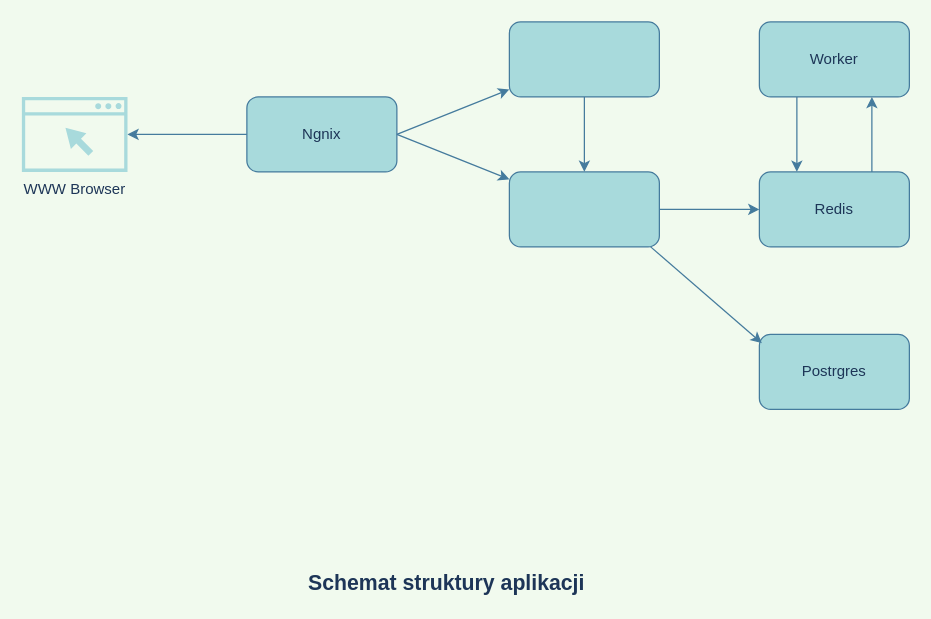
Image size: 931x619. Some labels were removed from this diagram. Here are the shapes that lost their labels. From the top down, the centre of each, then its label:
At (x=583, y=59): "React Server".
At (x=583, y=209): "Express Server".
